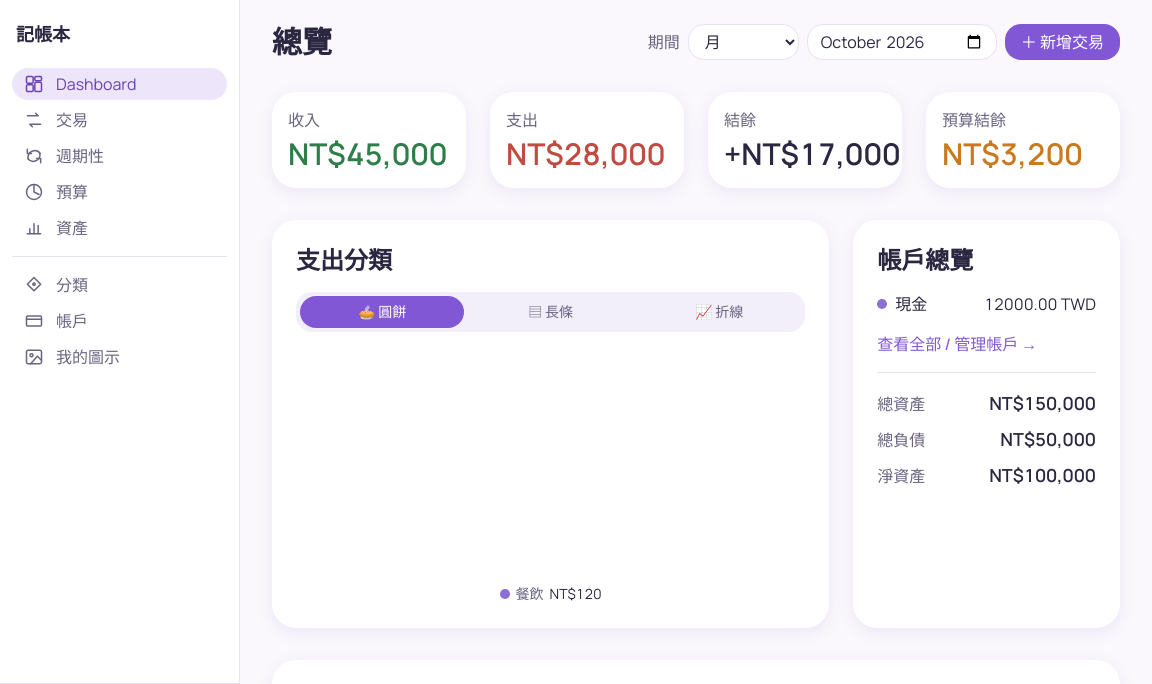
DashboardPage › 切換期間為「自訂範圍」時顯示預算簡化狀態（→ A7，區間不對齊月份邊界會失真）
Step 1. Select "自訂範圍" in the dropdown labelled "期間" → (743, 42), box x1=688 y1=24 x2=799 y2=60
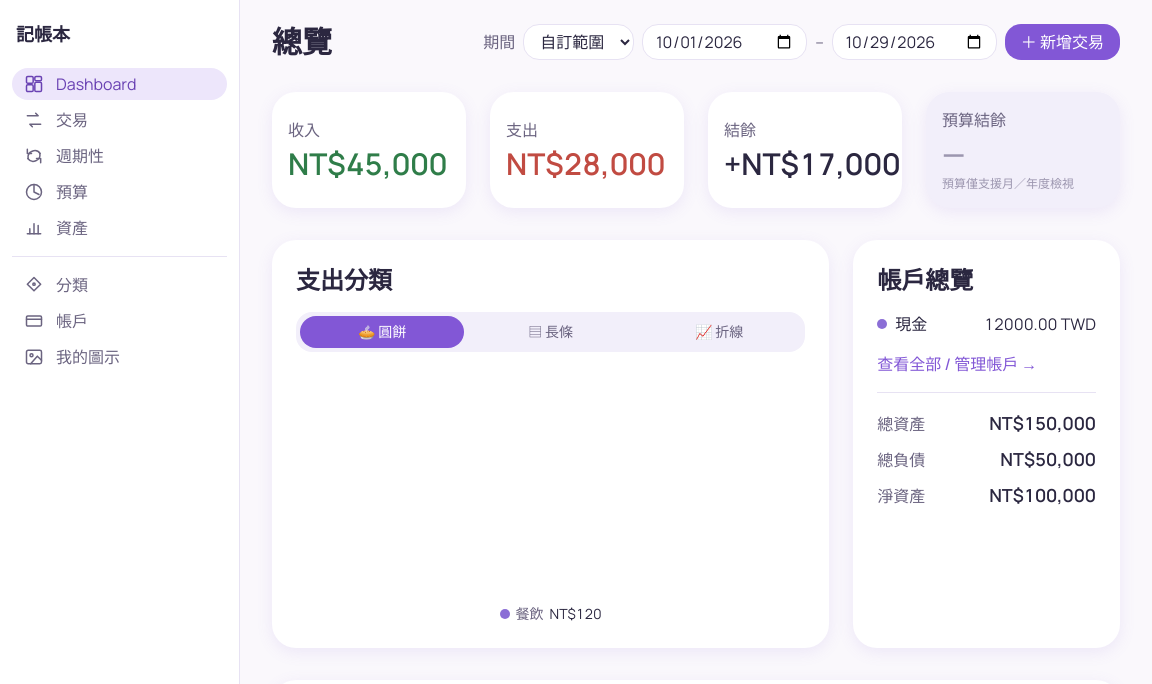
Now the text "預算僅支援月／年度檢視" is shown, box x1=942 y1=175 x2=1074 y2=192
